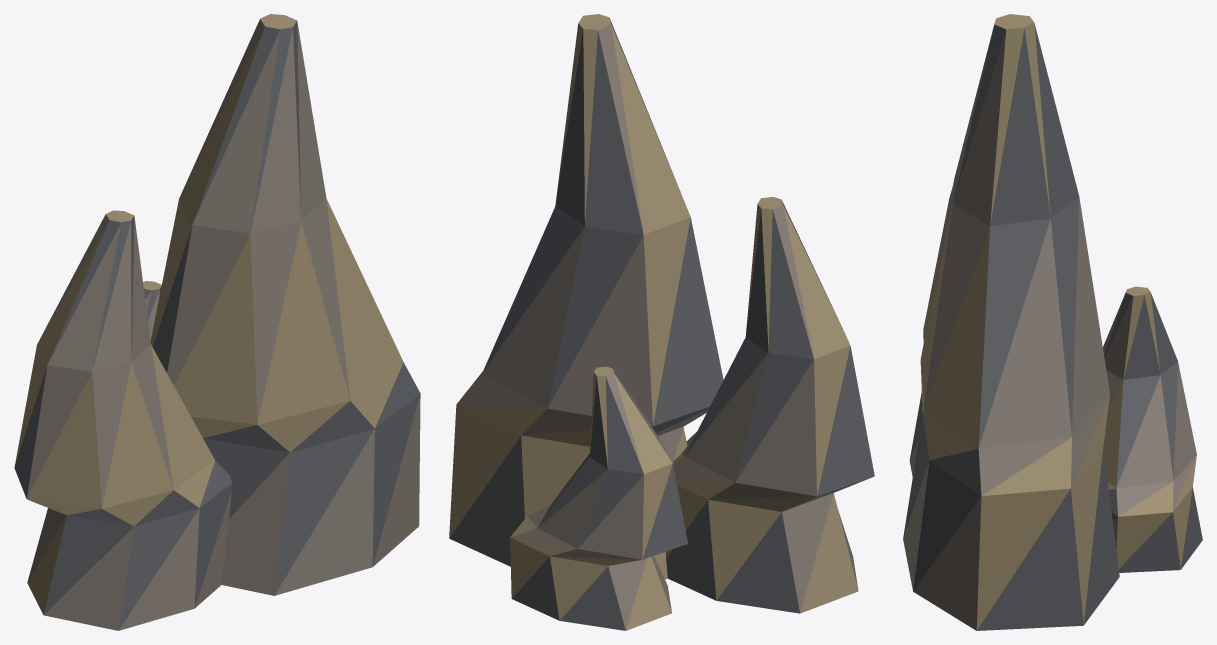
Rendered from AE_Volcano_AshSpire.fbx.
The picture shows the model from 3 angles, left to right: view 1: azimuth 30°, elevation 25°; view 2: azimuth 150°, elevation 25°; view 3: azimuth 270°, elevation 25°; orthographic projection. The views are drawn at different scales.
Parts seen in each view (by area): view 1: AE_Volcano_AshSpire; view 2: AE_Volcano_AshSpire; view 3: AE_Volcano_AshSpire.
Part boxes in pixels (x1=…): AE_Volcano_AshSpire: x1=14, y1=14, x2=420, y2=630; AE_Volcano_AshSpire: x1=449, y1=14, x2=874, y2=630; AE_Volcano_AshSpire: x1=903, y1=14, x2=1202, y2=630.
Bounding box in the file's own units: 1.03 × 1.31 × 0.6515.
